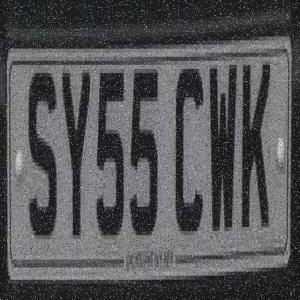Plate: (1, 20, 294, 292)
